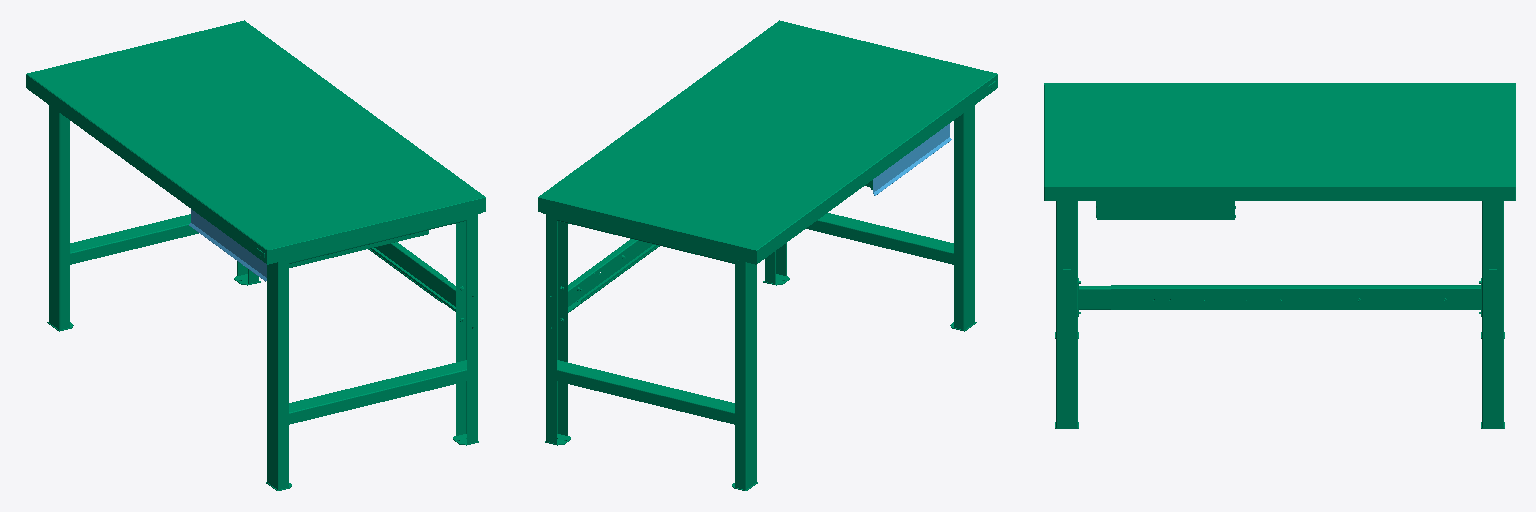
robot.urdf — partnet_cfbd2effba03a4b2b20aa91e9e90c311:
<?xml version="1.0" ?>
<robot name="partnet_cfbd2effba03a4b2b20aa91e9e90c311">
	<link name="base"/>
	<link name="link_0">
		<visual name="drawer_front-39">
			<origin xyz="0 0 0"/>
			<geometry>
				<mesh filename="textured_objs/original-67.obj"/>
			</geometry>
		</visual>
		<visual name="drawer_front-39">
			<origin xyz="0 0 0"/>
			<geometry>
				<mesh filename="textured_objs/original-70.obj"/>
			</geometry>
		</visual>
		<visual name="drawer_side-40">
			<origin xyz="0 0 0"/>
			<geometry>
				<mesh filename="textured_objs/new-7.obj"/>
			</geometry>
		</visual>
		<visual name="drawer_side-41">
			<origin xyz="0 0 0"/>
			<geometry>
				<mesh filename="textured_objs/new-6.obj"/>
			</geometry>
		</visual>
		<visual name="drawer_back-42">
			<origin xyz="0 0 0"/>
			<geometry>
				<mesh filename="textured_objs/new-5.obj"/>
			</geometry>
		</visual>
		<visual name="drawer_bottom-43">
			<origin xyz="0 0 0"/>
			<geometry>
				<mesh filename="textured_objs/new-8.obj"/>
			</geometry>
		</visual>
		<collision>
			<origin xyz="0 0 0"/>
			<geometry>
				<mesh filename="textured_objs/original-67.obj"/>
			</geometry>
		</collision>
		<collision>
			<origin xyz="0 0 0"/>
			<geometry>
				<mesh filename="textured_objs/original-70.obj"/>
			</geometry>
		</collision>
		<collision>
			<origin xyz="0 0 0"/>
			<geometry>
				<mesh filename="textured_objs/new-7.obj"/>
			</geometry>
		</collision>
		<collision>
			<origin xyz="0 0 0"/>
			<geometry>
				<mesh filename="textured_objs/new-6.obj"/>
			</geometry>
		</collision>
		<collision>
			<origin xyz="0 0 0"/>
			<geometry>
				<mesh filename="textured_objs/new-5.obj"/>
			</geometry>
		</collision>
		<collision>
			<origin xyz="0 0 0"/>
			<geometry>
				<mesh filename="textured_objs/new-8.obj"/>
			</geometry>
		</collision>
	</link>
	<joint name="joint_0" type="prismatic">
		<origin xyz="0 0 0"/>
		<axis xyz="0 0 1"/>
		<child link="link_0"/>
		<parent link="link_1"/>
		<limit lower="0" upper="0.42799999999999994"/>
	</joint>
	<link name="link_1">
		<visual name="board-32">
			<origin xyz="0 0 0"/>
			<geometry>
				<mesh filename="textured_objs/original-63.obj"/>
			</geometry>
		</visual>
<!--		<visual name="shelf-13">-->
<!--			<origin xyz="0 0 0"/>-->
<!--			<geometry>-->
<!--				<mesh filename="textured_objs/original-29.obj"/>-->
<!--			</geometry>-->
<!--		</visual>-->
<!--		<visual name="shelf-13">-->
<!--			<origin xyz="0 0 0"/>-->
<!--			<geometry>-->
<!--				<mesh filename="textured_objs/original-27.obj"/>-->
<!--			</geometry>-->
<!--		</visual>-->
<!--		<visual name="shelf-13">-->
<!--			<origin xyz="0 0 0"/>-->
<!--			<geometry>-->
<!--				<mesh filename="textured_objs/original-28.obj"/>-->
<!--			</geometry>-->
<!--		</visual>-->
		<visual name="leg-14">
			<origin xyz="0 0 0"/>
			<geometry>
				<mesh filename="textured_objs/original-9.obj"/>
			</geometry>
		</visual>
		<visual name="leg-14">
			<origin xyz="0 0 0"/>
			<geometry>
				<mesh filename="textured_objs/original-10.obj"/>
			</geometry>
		</visual>
		<visual name="leg-14">
			<origin xyz="0 0 0"/>
			<geometry>
				<mesh filename="textured_objs/original-38.obj"/>
			</geometry>
		</visual>
		<visual name="leg-14">
			<origin xyz="0 0 0"/>
			<geometry>
				<mesh filename="textured_objs/original-35.obj"/>
			</geometry>
		</visual>
		<visual name="leg-15">
			<origin xyz="0 0 0"/>
			<geometry>
				<mesh filename="textured_objs/original-23.obj"/>
			</geometry>
		</visual>
		<visual name="leg-15">
			<origin xyz="0 0 0"/>
			<geometry>
				<mesh filename="textured_objs/original-24.obj"/>
			</geometry>
		</visual>
		<visual name="leg-16">
			<origin xyz="0 0 0"/>
			<geometry>
				<mesh filename="textured_objs/original-14.obj"/>
			</geometry>
		</visual>
		<visual name="leg-16">
			<origin xyz="0 0 0"/>
			<geometry>
				<mesh filename="textured_objs/original-15.obj"/>
			</geometry>
		</visual>
		<visual name="leg-17">
			<origin xyz="0 0 0"/>
			<geometry>
				<mesh filename="textured_objs/original-18.obj"/>
			</geometry>
		</visual>
		<visual name="leg-17">
			<origin xyz="0 0 0"/>
			<geometry>
				<mesh filename="textured_objs/original-19.obj"/>
			</geometry>
		</visual>
		<visual name="leg-17">
			<origin xyz="0 0 0"/>
			<geometry>
				<mesh filename="textured_objs/original-60.obj"/>
			</geometry>
		</visual>
		<visual name="leg-17">
			<origin xyz="0 0 0"/>
			<geometry>
				<mesh filename="textured_objs/original-57.obj"/>
			</geometry>
		</visual>
<!--		<visual name="bar_stretcher-18">-->
<!--			<origin xyz="0 0 0"/>-->
<!--			<geometry>-->
<!--				<mesh filename="textured_objs/original-26.obj"/>-->
<!--			</geometry>-->
<!--		</visual>-->
		<visual name="bar_stretcher-19">
			<origin xyz="0 0 0"/>
			<geometry>
				<mesh filename="textured_objs/original-11.obj"/>
			</geometry>
		</visual>
		<visual name="bar_stretcher-20">
			<origin xyz="0 0 0"/>
			<geometry>
				<mesh filename="textured_objs/original-20.obj"/>
			</geometry>
		</visual>
		<visual name="tabletop_connector-21">
			<origin xyz="0 0 0"/>
			<geometry>
				<mesh filename="textured_objs/original-12.obj"/>
			</geometry>
		</visual>
		<visual name="tabletop_connector-21">
			<origin xyz="0 0 0"/>
			<geometry>
				<mesh filename="textured_objs/original-62.obj"/>
			</geometry>
		</visual>
		<visual name="tabletop_connector-22">
			<origin xyz="0 0 0"/>
			<geometry>
				<mesh filename="textured_objs/original-21.obj"/>
			</geometry>
		</visual>
		<visual name="bar_stretcher-24">
			<origin xyz="0 0 0"/>
			<geometry>
				<mesh filename="textured_objs/original-42.obj"/>
			</geometry>
		</visual>
		<visual name="bar_stretcher-24">
			<origin xyz="0 0 0"/>
			<geometry>
				<mesh filename="textured_objs/original-48.obj"/>
			</geometry>
		</visual>
		<visual name="bar_stretcher-24">
			<origin xyz="0 0 0"/>
			<geometry>
				<mesh filename="textured_objs/original-45.obj"/>
			</geometry>
		</visual>
		<visual name="bar_stretcher-24">
			<origin xyz="0 0 0"/>
			<geometry>
				<mesh filename="textured_objs/original-46.obj"/>
			</geometry>
		</visual>
		<visual name="bar_stretcher-24">
			<origin xyz="0 0 0"/>
			<geometry>
				<mesh filename="textured_objs/original-41.obj"/>
			</geometry>
		</visual>
		<visual name="bar_stretcher-24">
			<origin xyz="0 0 0"/>
			<geometry>
				<mesh filename="textured_objs/original-43.obj"/>
			</geometry>
		</visual>
		<visual name="bar_stretcher-24">
			<origin xyz="0 0 0"/>
			<geometry>
				<mesh filename="textured_objs/original-44.obj"/>
			</geometry>
		</visual>
		<visual name="bar_stretcher-24">
			<origin xyz="0 0 0"/>
			<geometry>
				<mesh filename="textured_objs/original-50.obj"/>
			</geometry>
		</visual>
		<visual name="bar_stretcher-24">
			<origin xyz="0 0 0"/>
			<geometry>
				<mesh filename="textured_objs/original-49.obj"/>
			</geometry>
		</visual>
		<visual name="bar_stretcher-24">
			<origin xyz="0 0 0"/>
			<geometry>
				<mesh filename="textured_objs/original-51.obj"/>
			</geometry>
		</visual>
		<visual name="back_panel-34">
			<origin xyz="0 0 0"/>
			<geometry>
				<mesh filename="textured_objs/new-0.obj"/>
			</geometry>
		</visual>
		<visual name="vertical_side_panel-35">
			<origin xyz="0 0 0"/>
			<geometry>
				<mesh filename="textured_objs/new-2.obj"/>
			</geometry>
		</visual>
		<visual name="vertical_side_panel-36">
			<origin xyz="0 0 0"/>
			<geometry>
				<mesh filename="textured_objs/new-1.obj"/>
			</geometry>
		</visual>
		<visual name="bottom_panel-37">
			<origin xyz="0 0 0"/>
			<geometry>
				<mesh filename="textured_objs/new-3.obj"/>
			</geometry>
		</visual>
<!--		<visual name="back_panel-6">-->
<!--			<origin xyz="0 0 0"/>-->
<!--			<geometry>-->
<!--				<mesh filename="textured_objs/original-2.obj"/>-->
<!--			</geometry>-->
<!--		</visual>-->
<!--		<visual name="back_panel-6">-->
<!--			<origin xyz="0 0 0"/>-->
<!--			<geometry>-->
<!--				<mesh filename="textured_objs/original-6.obj"/>-->
<!--			</geometry>-->
<!--		</visual>-->
<!--		<visual name="back_panel-6">-->
<!--			<origin xyz="0 0 0"/>-->
<!--			<geometry>-->
<!--				<mesh filename="textured_objs/original-3.obj"/>-->
<!--			</geometry>-->
<!--		</visual>-->
<!--		<visual name="back_panel-6">-->
<!--			<origin xyz="0 0 0"/>-->
<!--			<geometry>-->
<!--				<mesh filename="textured_objs/original-4.obj"/>-->
<!--			</geometry>-->
<!--		</visual>-->
<!--		<visual name="back_panel-6">-->
<!--			<origin xyz="0 0 0"/>-->
<!--			<geometry>-->
<!--				<mesh filename="textured_objs/original-5.obj"/>-->
<!--			</geometry>-->
<!--		</visual>-->
<!--		<visual name="other_leaf-11">-->
<!--			<origin xyz="0 0 0"/>-->
<!--			<geometry>-->
<!--				<mesh filename="textured_objs/original-31.obj"/>-->
<!--			</geometry>-->
<!--		</visual>-->
<!--		<visual name="other_leaf-11">-->
<!--			<origin xyz="0 0 0"/>-->
<!--			<geometry>-->
<!--				<mesh filename="textured_objs/original-37.obj"/>-->
<!--			</geometry>-->
<!--		</visual>-->
<!--		<visual name="other_leaf-11">-->
<!--			<origin xyz="0 0 0"/>-->
<!--			<geometry>-->
<!--				<mesh filename="textured_objs/original-32.obj"/>-->
<!--			</geometry>-->
<!--		</visual>-->
<!--		<visual name="other_leaf-11">-->
<!--			<origin xyz="0 0 0"/>-->
<!--			<geometry>-->
<!--				<mesh filename="textured_objs/original-34.obj"/>-->
<!--			</geometry>-->
<!--		</visual>-->
<!--		<visual name="other_leaf-10">-->
<!--			<origin xyz="0 0 0"/>-->
<!--			<geometry>-->
<!--				<mesh filename="textured_objs/original-54.obj"/>-->
<!--			</geometry>-->
<!--		</visual>-->
<!--		<visual name="other_leaf-10">-->
<!--			<origin xyz="0 0 0"/>-->
<!--			<geometry>-->
<!--				<mesh filename="textured_objs/original-56.obj"/>-->
<!--			</geometry>-->
<!--		</visual>-->
<!--		<visual name="other_leaf-10">-->
<!--			<origin xyz="0 0 0"/>-->
<!--			<geometry>-->
<!--				<mesh filename="textured_objs/original-59.obj"/>-->
<!--			</geometry>-->
<!--		</visual>-->
<!--		<visual name="other_leaf-10">-->
<!--			<origin xyz="0 0 0"/>-->
<!--			<geometry>-->
<!--				<mesh filename="textured_objs/original-53.obj"/>-->
<!--			</geometry>-->
<!--		</visual>-->
		<visual name="drawer_rails-44">
			<origin xyz="0 0 0"/>
			<geometry>
				<mesh filename="textured_objs/original-73.obj"/>
			</geometry>
		</visual>
		<visual name="drawer_rails-44">
			<origin xyz="0 0 0"/>
			<geometry>
				<mesh filename="textured_objs/original-74.obj"/>
			</geometry>
		</visual>
		<visual name="drawer_rails-45">
			<origin xyz="0 0 0"/>
			<geometry>
				<mesh filename="textured_objs/original-76.obj"/>
			</geometry>
		</visual>
		<visual name="drawer_rails-45">
			<origin xyz="0 0 0"/>
			<geometry>
				<mesh filename="textured_objs/new-4.obj"/>
			</geometry>
		</visual>
		<visual name="drawer_rails-45">
			<origin xyz="0 0 0"/>
			<geometry>
				<mesh filename="textured_objs/original-77.obj"/>
			</geometry>
		</visual>
		<collision>
			<origin xyz="0 0 0"/>
			<geometry>
				<mesh filename="textured_objs/original-63.obj"/>
			</geometry>
		</collision>
		<collision>
			<origin xyz="0 0 0"/>
			<geometry>
				<mesh filename="textured_objs/original-29.obj"/>
			</geometry>
		</collision>
		<collision>
			<origin xyz="0 0 0"/>
			<geometry>
				<mesh filename="textured_objs/original-27.obj"/>
			</geometry>
		</collision>
		<collision>
			<origin xyz="0 0 0"/>
			<geometry>
				<mesh filename="textured_objs/original-28.obj"/>
			</geometry>
		</collision>
		<collision>
			<origin xyz="0 0 0"/>
			<geometry>
				<mesh filename="textured_objs/original-9.obj"/>
			</geometry>
		</collision>
		<collision>
			<origin xyz="0 0 0"/>
			<geometry>
				<mesh filename="textured_objs/original-10.obj"/>
			</geometry>
		</collision>
		<collision>
			<origin xyz="0 0 0"/>
			<geometry>
				<mesh filename="textured_objs/original-38.obj"/>
			</geometry>
		</collision>
		<collision>
			<origin xyz="0 0 0"/>
			<geometry>
				<mesh filename="textured_objs/original-35.obj"/>
			</geometry>
		</collision>
		<collision>
			<origin xyz="0 0 0"/>
			<geometry>
				<mesh filename="textured_objs/original-23.obj"/>
			</geometry>
		</collision>
		<collision>
			<origin xyz="0 0 0"/>
			<geometry>
				<mesh filename="textured_objs/original-24.obj"/>
			</geometry>
		</collision>
		<collision>
			<origin xyz="0 0 0"/>
			<geometry>
				<mesh filename="textured_objs/original-14.obj"/>
			</geometry>
		</collision>
		<collision>
			<origin xyz="0 0 0"/>
			<geometry>
				<mesh filename="textured_objs/original-15.obj"/>
			</geometry>
		</collision>
		<collision>
			<origin xyz="0 0 0"/>
			<geometry>
				<mesh filename="textured_objs/original-18.obj"/>
			</geometry>
		</collision>
		<collision>
			<origin xyz="0 0 0"/>
			<geometry>
				<mesh filename="textured_objs/original-19.obj"/>
			</geometry>
		</collision>
		<collision>
			<origin xyz="0 0 0"/>
			<geometry>
				<mesh filename="textured_objs/original-60.obj"/>
			</geometry>
		</collision>
		<collision>
			<origin xyz="0 0 0"/>
			<geometry>
				<mesh filename="textured_objs/original-57.obj"/>
			</geometry>
		</collision>
		<collision>
			<origin xyz="0 0 0"/>
			<geometry>
				<mesh filename="textured_objs/original-26.obj"/>
			</geometry>
		</collision>
		<collision>
			<origin xyz="0 0 0"/>
			<geometry>
				<mesh filename="textured_objs/original-11.obj"/>
			</geometry>
		</collision>
		<collision>
			<origin xyz="0 0 0"/>
			<geometry>
				<mesh filename="textured_objs/original-20.obj"/>
			</geometry>
		</collision>
		<collision>
			<origin xyz="0 0 0"/>
			<geometry>
				<mesh filename="textured_objs/original-12.obj"/>
			</geometry>
		</collision>
		<collision>
			<origin xyz="0 0 0"/>
			<geometry>
				<mesh filename="textured_objs/original-62.obj"/>
			</geometry>
		</collision>
		<collision>
			<origin xyz="0 0 0"/>
			<geometry>
				<mesh filename="textured_objs/original-21.obj"/>
			</geometry>
		</collision>
		<collision>
			<origin xyz="0 0 0"/>
			<geometry>
				<mesh filename="textured_objs/original-42.obj"/>
			</geometry>
		</collision>
		<collision>
			<origin xyz="0 0 0"/>
			<geometry>
				<mesh filename="textured_objs/original-48.obj"/>
			</geometry>
		</collision>
		<collision>
			<origin xyz="0 0 0"/>
			<geometry>
				<mesh filename="textured_objs/original-45.obj"/>
			</geometry>
		</collision>
		<collision>
			<origin xyz="0 0 0"/>
			<geometry>
				<mesh filename="textured_objs/original-46.obj"/>
			</geometry>
		</collision>
		<collision>
			<origin xyz="0 0 0"/>
			<geometry>
				<mesh filename="textured_objs/original-41.obj"/>
			</geometry>
		</collision>
		<collision>
			<origin xyz="0 0 0"/>
			<geometry>
				<mesh filename="textured_objs/original-43.obj"/>
			</geometry>
		</collision>
		<collision>
			<origin xyz="0 0 0"/>
			<geometry>
				<mesh filename="textured_objs/original-44.obj"/>
			</geometry>
		</collision>
		<collision>
			<origin xyz="0 0 0"/>
			<geometry>
				<mesh filename="textured_objs/original-50.obj"/>
			</geometry>
		</collision>
		<collision>
			<origin xyz="0 0 0"/>
			<geometry>
				<mesh filename="textured_objs/original-49.obj"/>
			</geometry>
		</collision>
		<collision>
			<origin xyz="0 0 0"/>
			<geometry>
				<mesh filename="textured_objs/original-51.obj"/>
			</geometry>
		</collision>
		<collision>
			<origin xyz="0 0 0"/>
			<geometry>
				<mesh filename="textured_objs/new-0.obj"/>
			</geometry>
		</collision>
		<collision>
			<origin xyz="0 0 0"/>
			<geometry>
				<mesh filename="textured_objs/new-2.obj"/>
			</geometry>
		</collision>
		<collision>
			<origin xyz="0 0 0"/>
			<geometry>
				<mesh filename="textured_objs/new-1.obj"/>
			</geometry>
		</collision>
		<collision>
			<origin xyz="0 0 0"/>
			<geometry>
				<mesh filename="textured_objs/new-3.obj"/>
			</geometry>
		</collision>
<!--		<collision>-->
<!--			<origin xyz="0 0 0"/>-->
<!--			<geometry>-->
<!--				<mesh filename="textured_objs/original-2.obj"/>-->
<!--			</geometry>-->
<!--		</collision>-->
		<collision>
			<origin xyz="0 0 0"/>
			<geometry>
				<mesh filename="textured_objs/original-6.obj"/>
			</geometry>
		</collision>
		<collision>
			<origin xyz="0 0 0"/>
			<geometry>
				<mesh filename="textured_objs/original-3.obj"/>
			</geometry>
		</collision>
		<collision>
			<origin xyz="0 0 0"/>
			<geometry>
				<mesh filename="textured_objs/original-4.obj"/>
			</geometry>
		</collision>
		<collision>
			<origin xyz="0 0 0"/>
			<geometry>
				<mesh filename="textured_objs/original-5.obj"/>
			</geometry>
		</collision>
		<collision>
			<origin xyz="0 0 0"/>
			<geometry>
				<mesh filename="textured_objs/original-31.obj"/>
			</geometry>
		</collision>
		<collision>
			<origin xyz="0 0 0"/>
			<geometry>
				<mesh filename="textured_objs/original-37.obj"/>
			</geometry>
		</collision>
		<collision>
			<origin xyz="0 0 0"/>
			<geometry>
				<mesh filename="textured_objs/original-32.obj"/>
			</geometry>
		</collision>
		<collision>
			<origin xyz="0 0 0"/>
			<geometry>
				<mesh filename="textured_objs/original-34.obj"/>
			</geometry>
		</collision>
		<collision>
			<origin xyz="0 0 0"/>
			<geometry>
				<mesh filename="textured_objs/original-54.obj"/>
			</geometry>
		</collision>
		<collision>
			<origin xyz="0 0 0"/>
			<geometry>
				<mesh filename="textured_objs/original-56.obj"/>
			</geometry>
		</collision>
		<collision>
			<origin xyz="0 0 0"/>
			<geometry>
				<mesh filename="textured_objs/original-59.obj"/>
			</geometry>
		</collision>
		<collision>
			<origin xyz="0 0 0"/>
			<geometry>
				<mesh filename="textured_objs/original-53.obj"/>
			</geometry>
		</collision>
		<collision>
			<origin xyz="0 0 0"/>
			<geometry>
				<mesh filename="textured_objs/original-73.obj"/>
			</geometry>
		</collision>
		<collision>
			<origin xyz="0 0 0"/>
			<geometry>
				<mesh filename="textured_objs/original-74.obj"/>
			</geometry>
		</collision>
		<collision>
			<origin xyz="0 0 0"/>
			<geometry>
				<mesh filename="textured_objs/original-76.obj"/>
			</geometry>
		</collision>
		<collision>
			<origin xyz="0 0 0"/>
			<geometry>
				<mesh filename="textured_objs/new-4.obj"/>
			</geometry>
		</collision>
		<collision>
			<origin xyz="0 0 0"/>
			<geometry>
				<mesh filename="textured_objs/original-77.obj"/>
			</geometry>
		</collision>
	</link>
	<joint name="joint_1" type="fixed">
		<origin rpy="1.570796326794897 0 -1.570796326794897" xyz="0 0 0"/>
		<child link="link_1"/>
		<parent link="base"/>
	</joint>
</robot>

--- What the picture shows (computed from the rendered views, not written in the file) ---
3 views of the same robot in one strip: view 1: azimuth 30°, elevation 25°; view 2: azimuth 150°, elevation 25°; view 3: azimuth 270°, elevation 25° (orthographic).
Model partnet_cfbd2effba03a4b2b20aa91e9e90c311 with 3 links and 2 joints (1 prismatic, 1 fixed), rooted at base, posed all joints at 0.
Visible links, largest first — view 1: link_1, link_0; view 2: link_1, link_0; view 3: link_1.
Link boxes in pixels (box(x1,y1,x2,y2)): link_1: box(26, 20, 485, 490); link_0: box(189, 209, 266, 281); link_1: box(538, 20, 997, 490); link_0: box(873, 124, 951, 195); link_1: box(1044, 83, 1515, 428).
Size in the robot's own frame: 0.7152 by 1.36 by 0.7754 metres.
43 mesh visuals loaded from 43 distinct referenced files (43 OBJ).